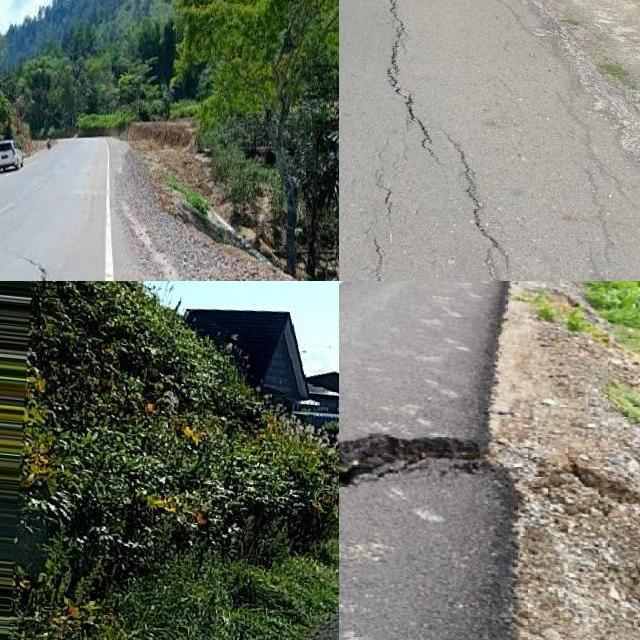Memanjang: (383, 0, 450, 162), (444, 131, 517, 270)
Pinggir: (339, 429, 537, 640), (170, 190, 328, 281)
